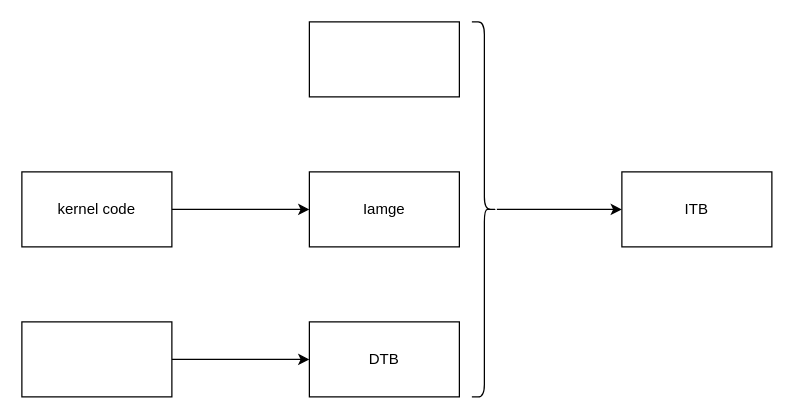
Some shapes in this 794 by 419 pixel diagram are drawn without their labels. The shapes that lost their labels are listed below. From the top down, each one's centre as x and y in pixels, then its label:
[383,59]: ITS
[96,359]: DTS
